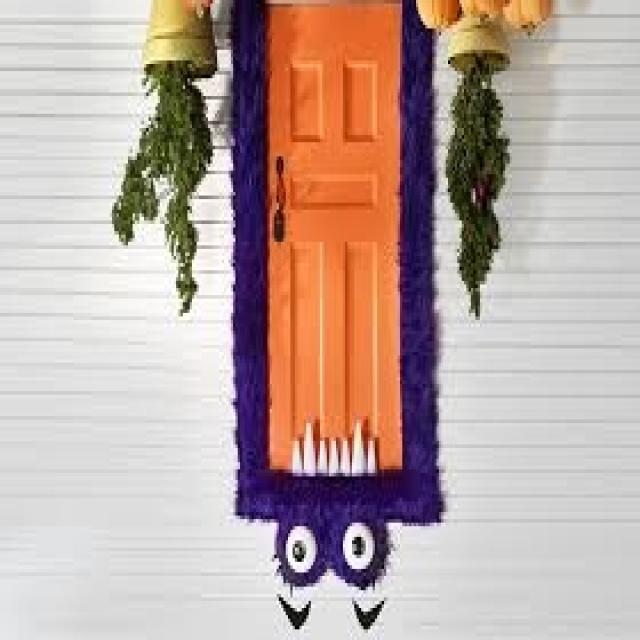door: (263, 2, 404, 478)
